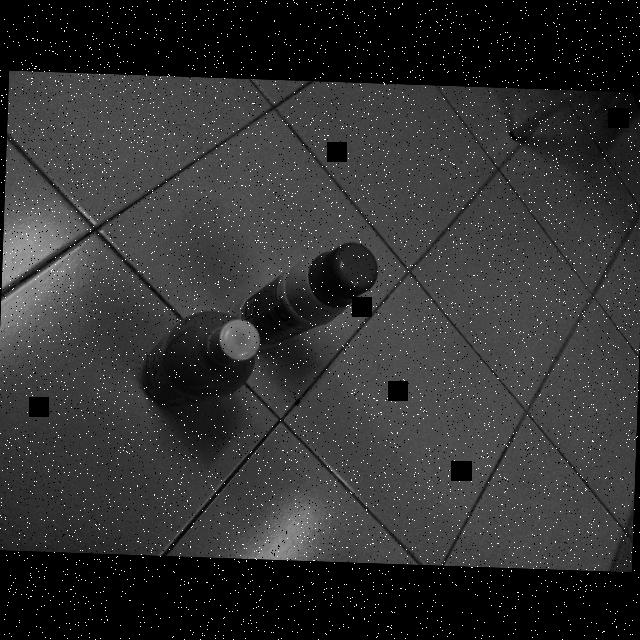chemical_plastic_bottle: (239, 236, 381, 348), (130, 300, 267, 414)
